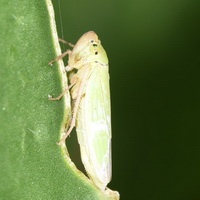insect: (49, 31, 118, 199)
